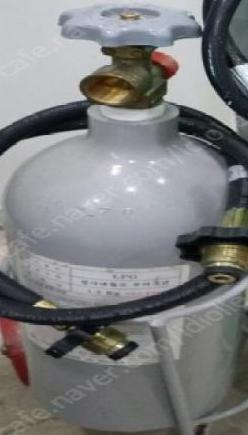cylinder: (1, 1, 248, 435)
